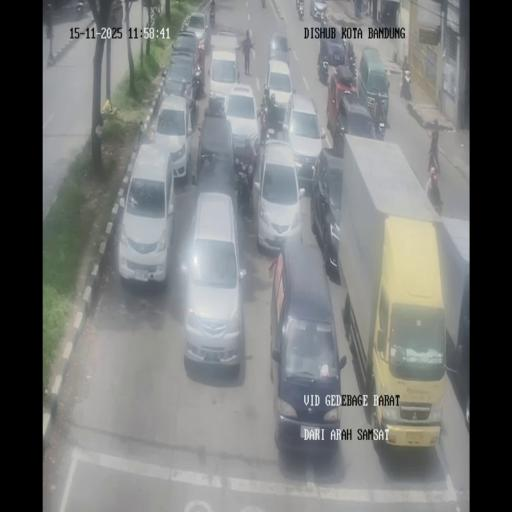3: (336, 140, 462, 447), (445, 265, 469, 437)
car: (268, 239, 342, 454), (180, 191, 247, 369), (118, 142, 175, 286), (313, 148, 345, 278), (281, 92, 323, 187), (332, 87, 382, 154), (223, 83, 260, 164), (162, 54, 198, 119), (262, 59, 294, 132), (317, 27, 348, 82), (183, 11, 209, 48), (268, 30, 290, 66)
truck: (237, 174, 253, 220), (343, 44, 357, 83), (400, 65, 412, 100), (372, 111, 386, 141), (208, 98, 226, 120), (46, 4, 54, 39), (320, 4, 330, 24), (209, 2, 216, 27), (254, 136, 260, 159), (361, 0, 368, 17), (298, 3, 304, 20), (76, 2, 83, 16), (377, 9, 382, 23), (261, 0, 266, 9)
